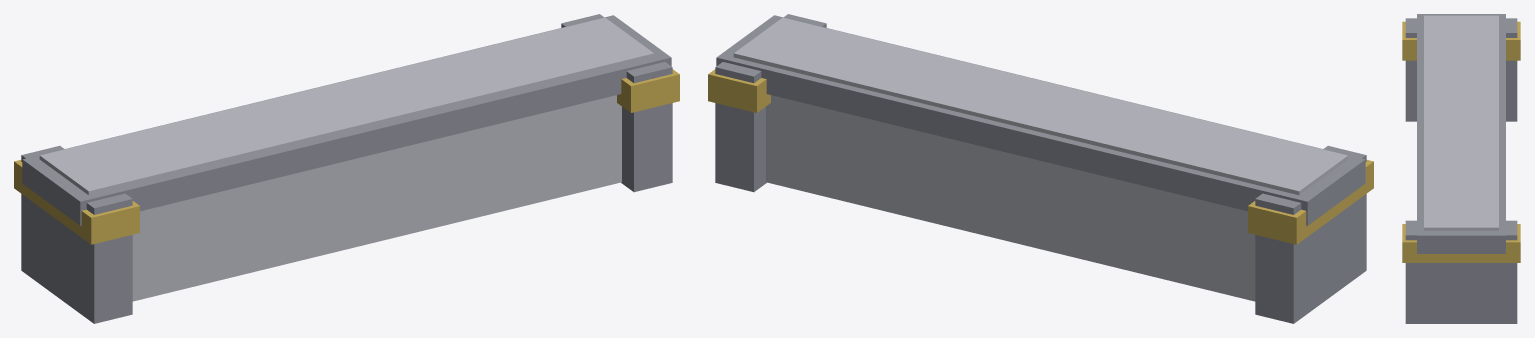
File: platform.glb
3 views of the same model, side by side, from view 1: azimuth 30°, elevation 25°; view 2: azimuth 150°, elevation 25°; view 3: azimuth 270°, elevation 25° (orthographic). The views are drawn at different scales.
Visible parts, largest first — view 1: PangPlatformBody, PangPlatformTop, PangPlatformCap0, PangPlatformCap1, PangPlatformBand0, PangPlatformBand1; view 2: PangPlatformBody, PangPlatformTop, PangPlatformCap0, PangPlatformCap1, PangPlatformBand0, PangPlatformBand1; view 3: PangPlatformBody, PangPlatformCap1, PangPlatformTop, PangPlatformCap0, PangPlatformBand1, PangPlatformBand0.
Part boxes in pixels (<box>): PangPlatformBody: <box>39,17,654,301</box>; PangPlatformTop: <box>22,15,671,225</box>; PangPlatformCap0: <box>21,145,132,323</box>; PangPlatformCap1: <box>561,14,672,192</box>; PangPlatformBand0: <box>14,160,139,244</box>; PangPlatformBand1: <box>617,69,679,112</box>; PangPlatformBody: <box>733,17,1348,301</box>; PangPlatformTop: <box>716,15,1365,225</box>; PangPlatformCap0: <box>1255,145,1366,323</box>; PangPlatformCap1: <box>715,14,826,192</box>; PangPlatformBand0: <box>1248,160,1373,244</box>; PangPlatformBand1: <box>708,69,770,112</box>; PangPlatformBody: <box>1424,15,1498,230</box>; PangPlatformCap1: <box>1405,220,1517,323</box>; PangPlatformTop: <box>1417,14,1505,253</box>; PangPlatformCap0: <box>1405,18,1517,121</box>; PangPlatformBand1: <box>1402,224,1520,262</box>; PangPlatformBand0: <box>1402,21,1520,60</box>.
Size of the model in its own units: 4.6 by 0.91 by 1.04.
